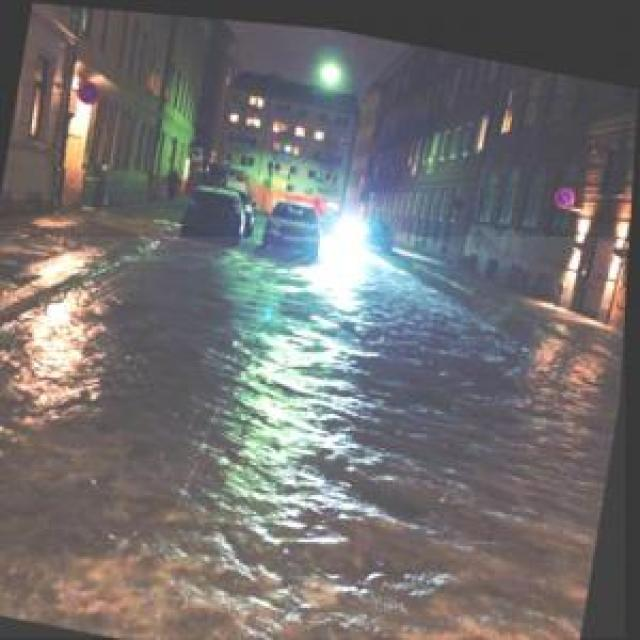ice-road: (0, 238, 625, 640)
